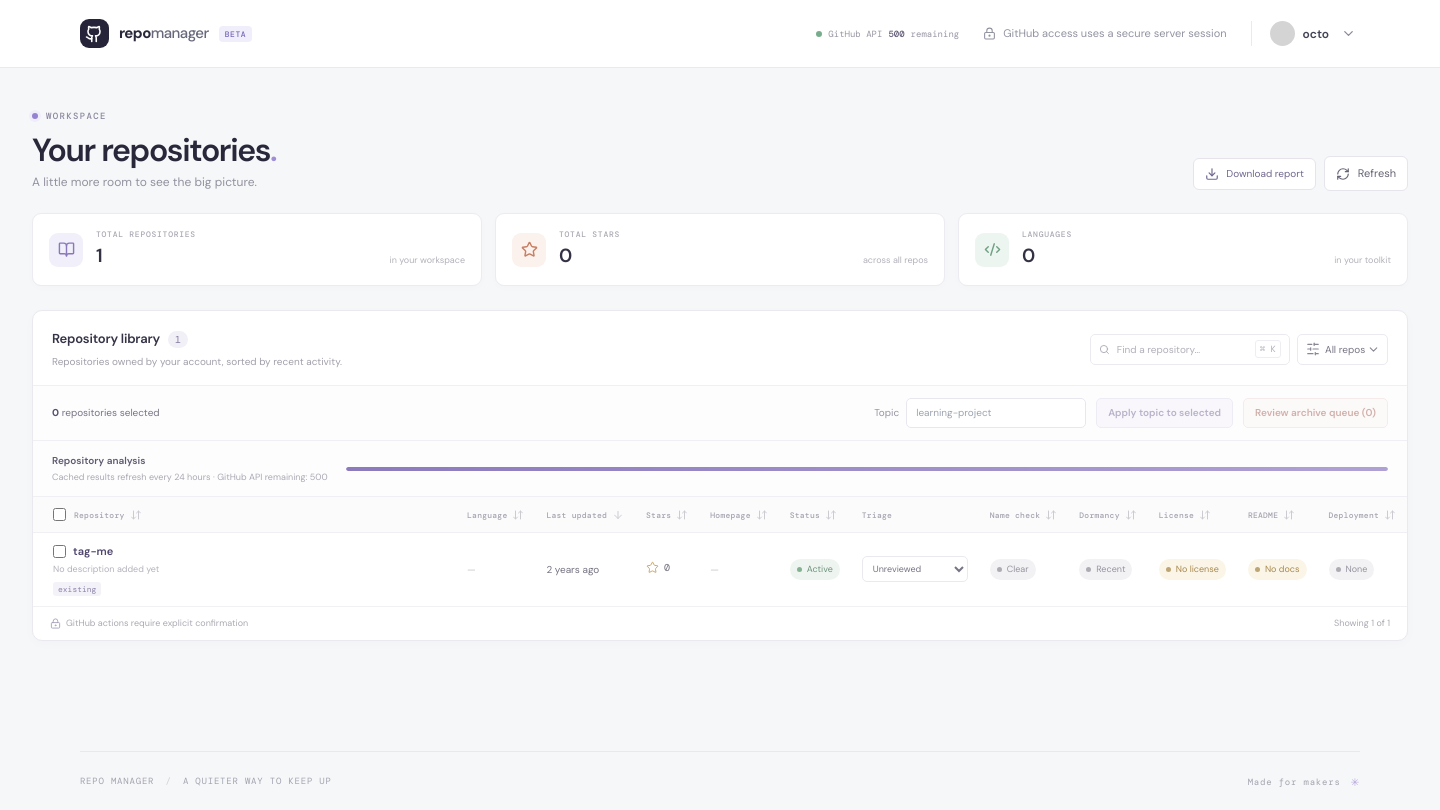
Test: repository write-action UI › applies a topic to selected repos and updates local topic chips
The image size is (1440, 810).
Expected: the heading "Repository library" is shown, [52,329,160,349]
Click the checkbox named "Select octo/tag-me" at (60,551), box [53,545,66,558]
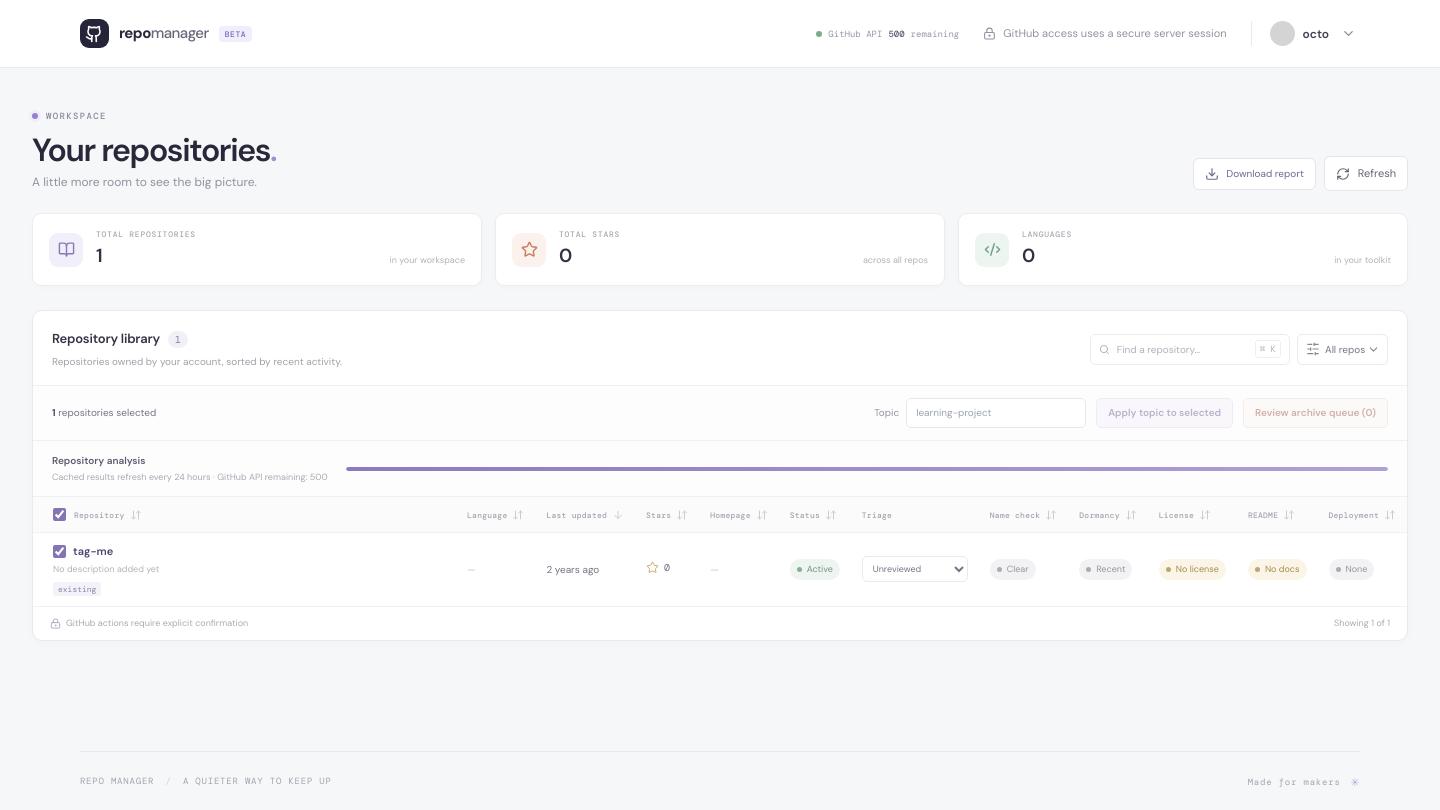
Type "Learning-Project" into the field labelled "Topic" at (996,413), box [906,398,1086,428]
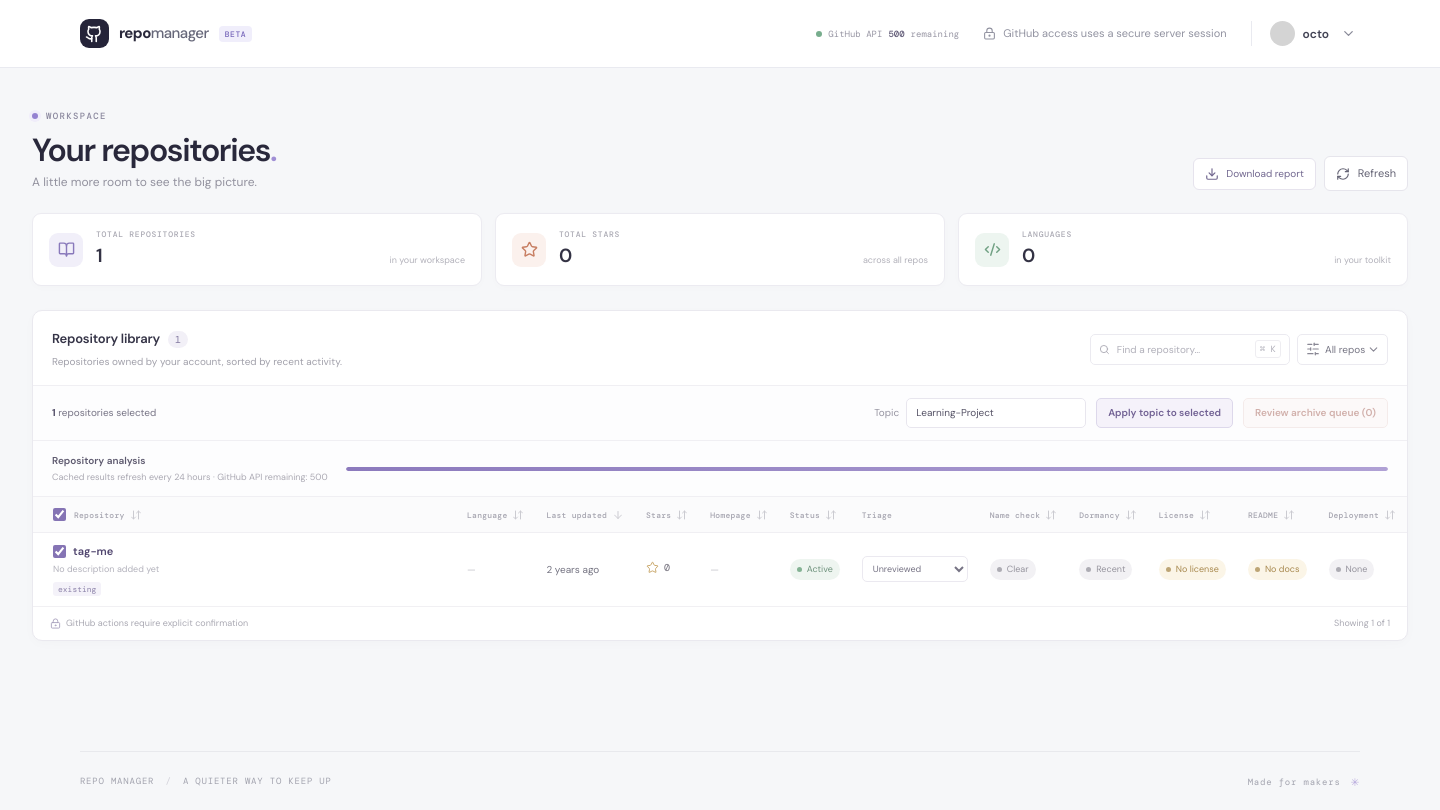
Click the button "Apply topic to selected" at (1165,413), box [1096,398,1233,428]
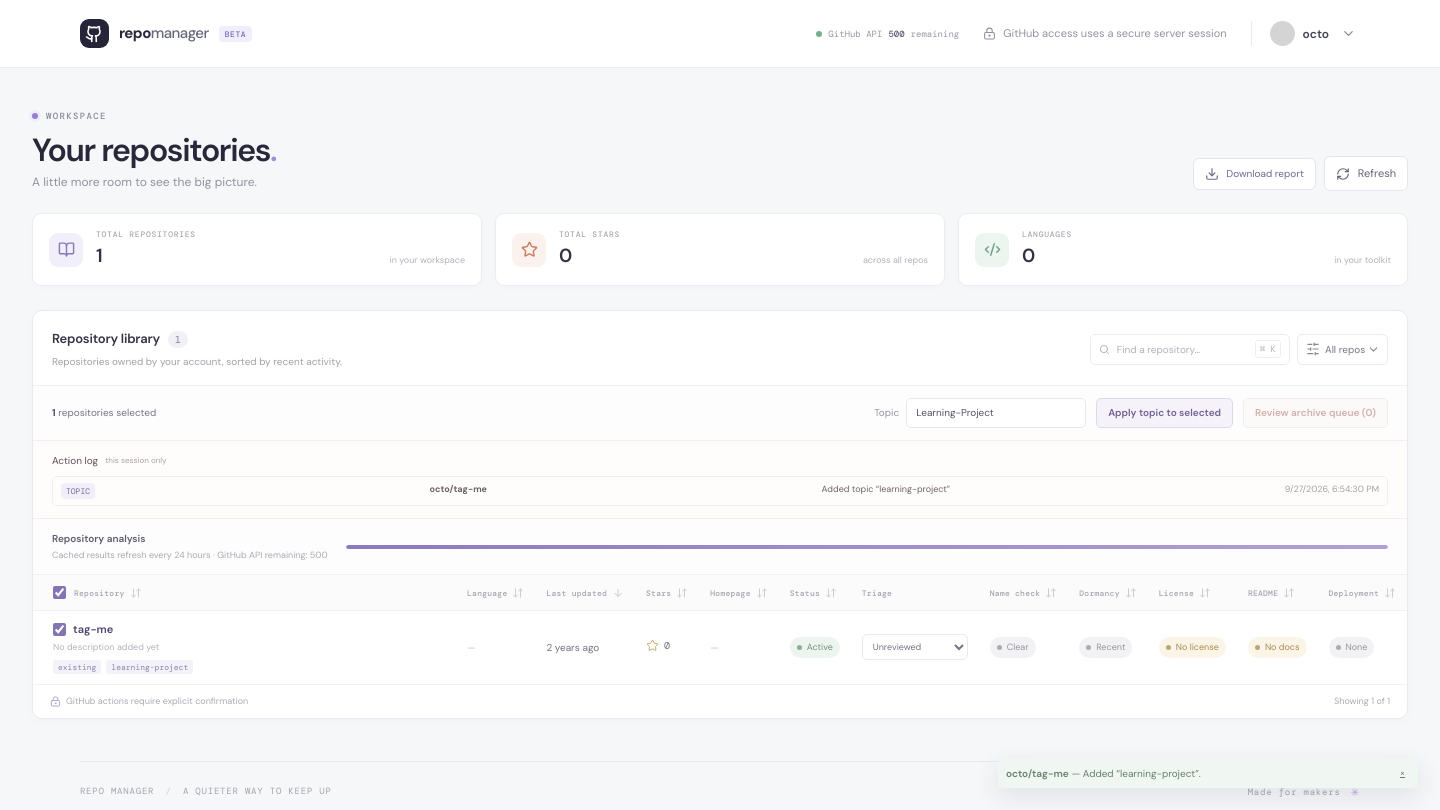
Now the text "octo/tag-me — Added “learning-project”." is shown, box [1006,767,1201,780]
